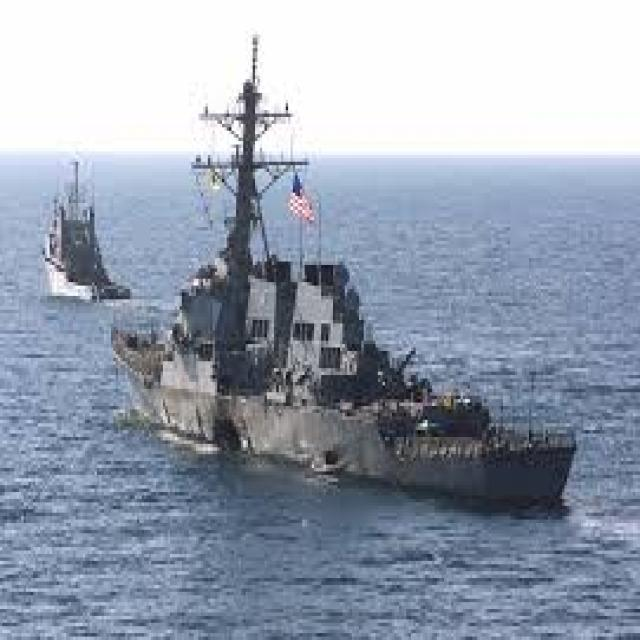navalvessels: (115, 69, 579, 510), (46, 166, 122, 316)
